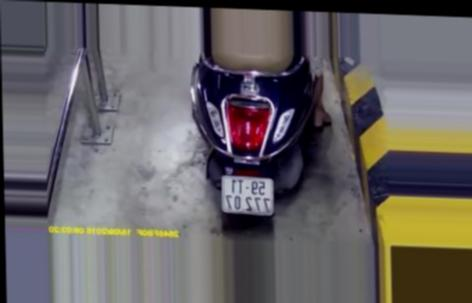License_Plate: (216, 173, 280, 220)
